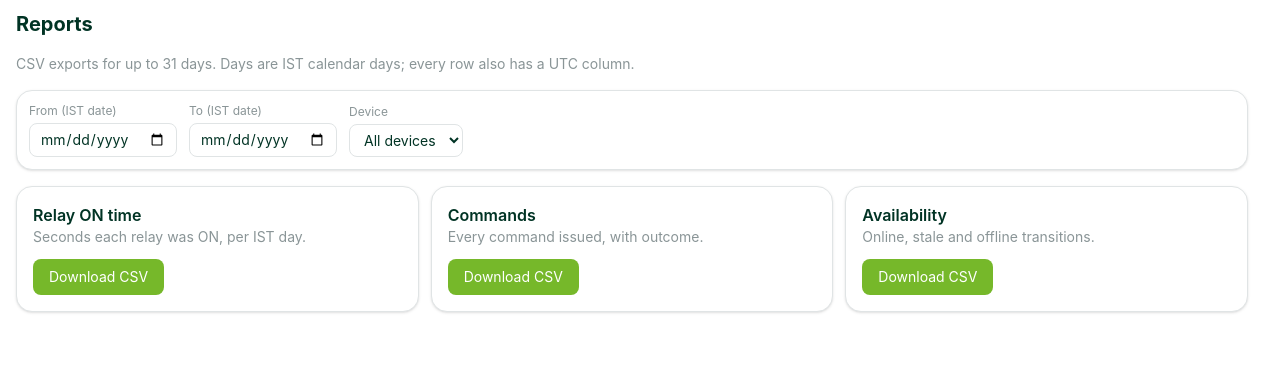
ReportsPage › shows the server error message
The width and height of the screenshot is (1265, 390).
Type "2026-11-01" into the date field labelled "From (IST date)" at [103, 140], box [29,123,177,157]
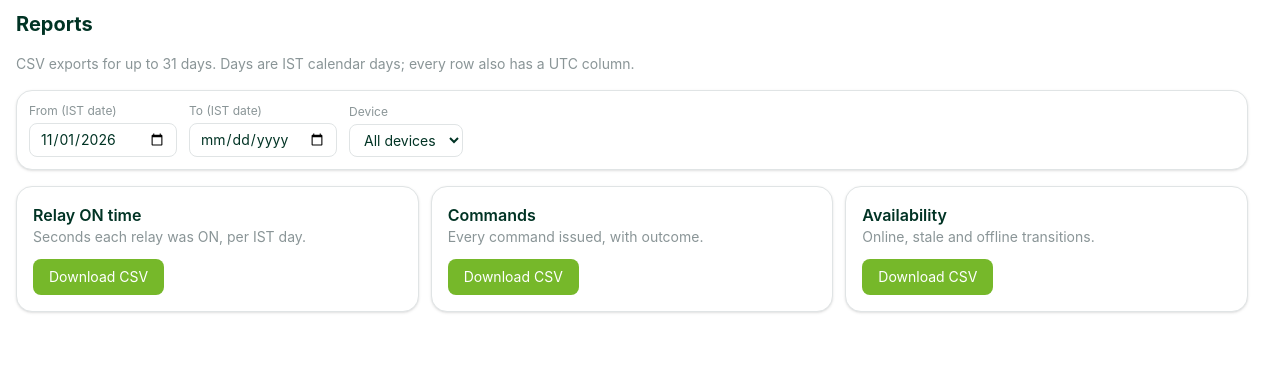
Type "2026-11-02" into the date field labelled "To (IST date)" at [263, 140], box [189,123,337,157]
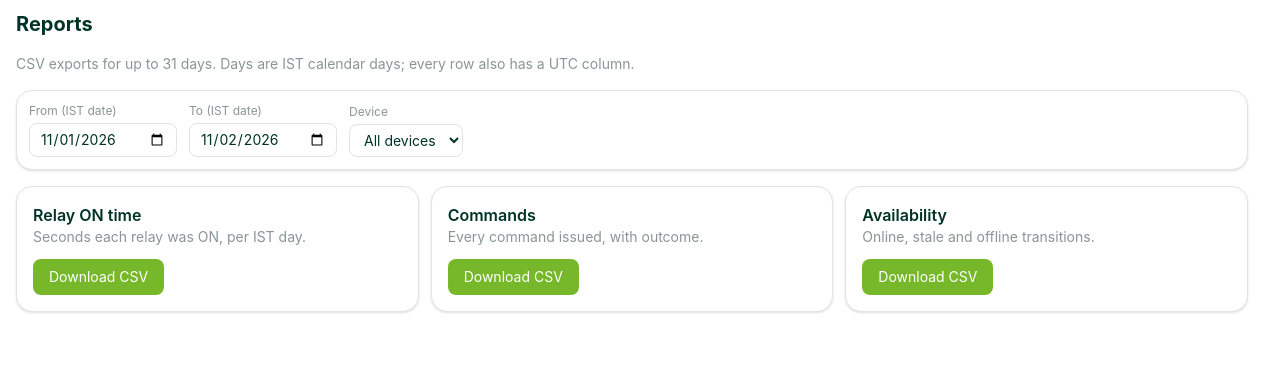
Click the button with aria-label "Download Availability CSV" at [928, 277], box [862,259,993,295]
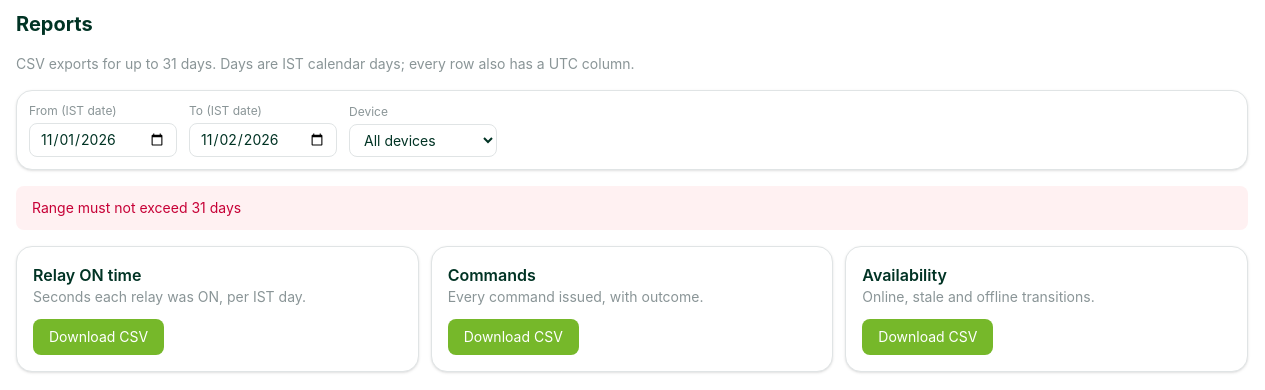
Now the message reads "Range must not exceed 31 days", box [32,199,241,216]
